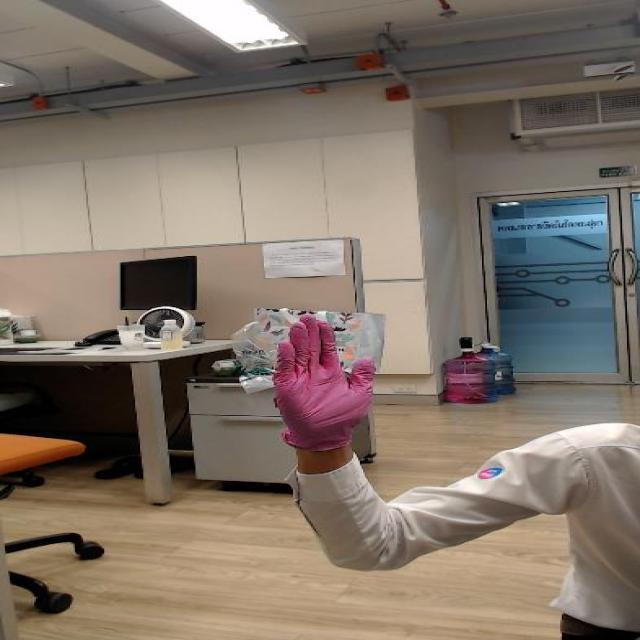gloved_hand: (261, 306, 392, 431)
